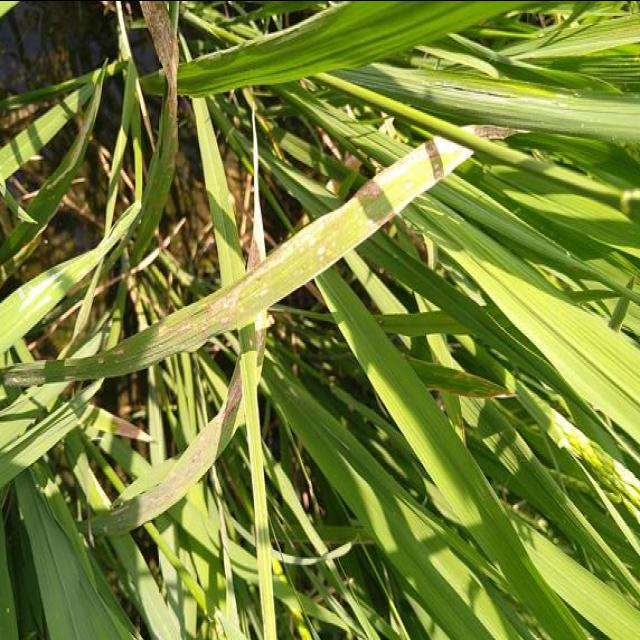Leaf Streak: (100, 136, 472, 377), (90, 351, 242, 532), (27, 61, 106, 217), (134, 0, 178, 142), (420, 365, 515, 398), (247, 105, 266, 269), (425, 371, 514, 399), (93, 408, 157, 443), (437, 124, 526, 148), (254, 308, 267, 381)
